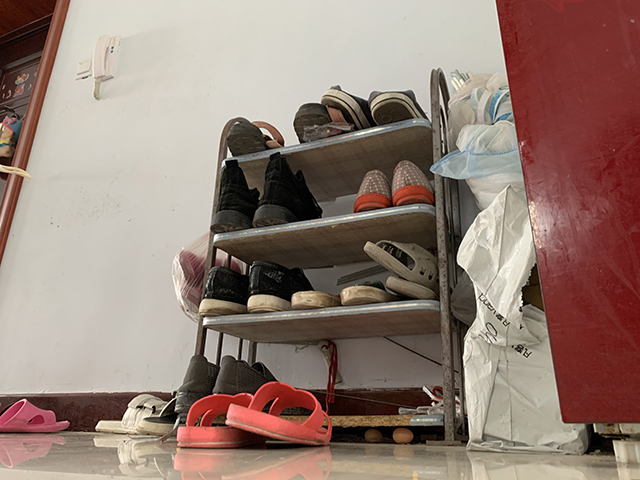slippers: (224, 380, 334, 451), (175, 392, 263, 451), (92, 390, 179, 434), (1, 397, 72, 435)
